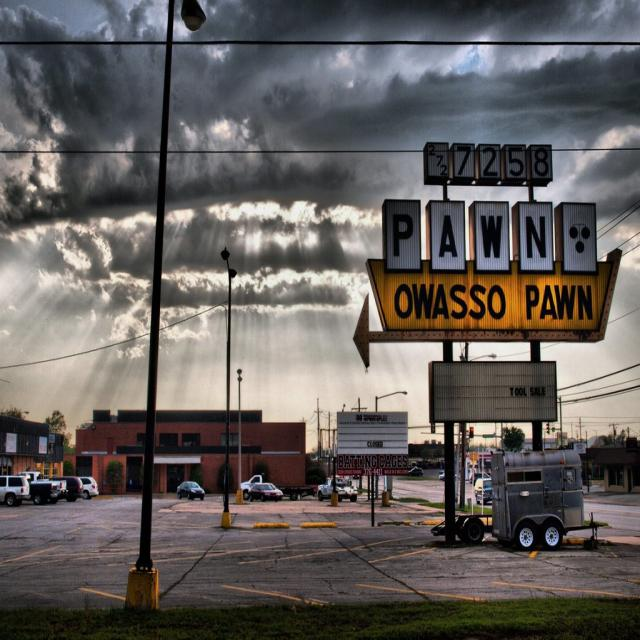car: (176, 481, 205, 503)
